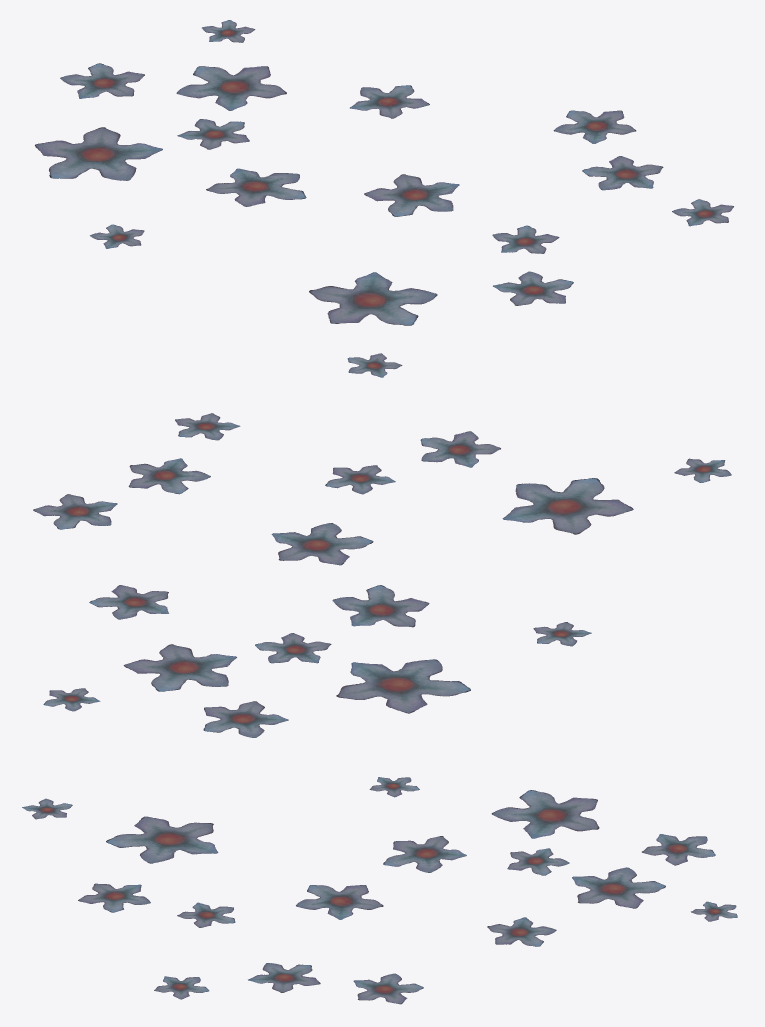
Rendered from 110101_flower_036.FBX.
3 views of the same model, one above another, from view 1: azimuth 30°, elevation 25°; view 2: azimuth 150°, elevation 25°; view 3: azimuth 270°, elevation 25° (orthographic). The views are drawn at different scales.
Parts seen in each view (by area): view 1: 110101_flower_036; view 2: 110101_flower_036; view 3: 110101_flower_036.
Boxes of the visible parts, <box> form: 110101_flower_036: <box>35,20,733,377</box>; 110101_flower_036: <box>33,413,731,737</box>; 110101_flower_036: <box>22,777,737,1004</box>.
Size of the model in its own units: 1.39 by 0.00623 by 1.79.
